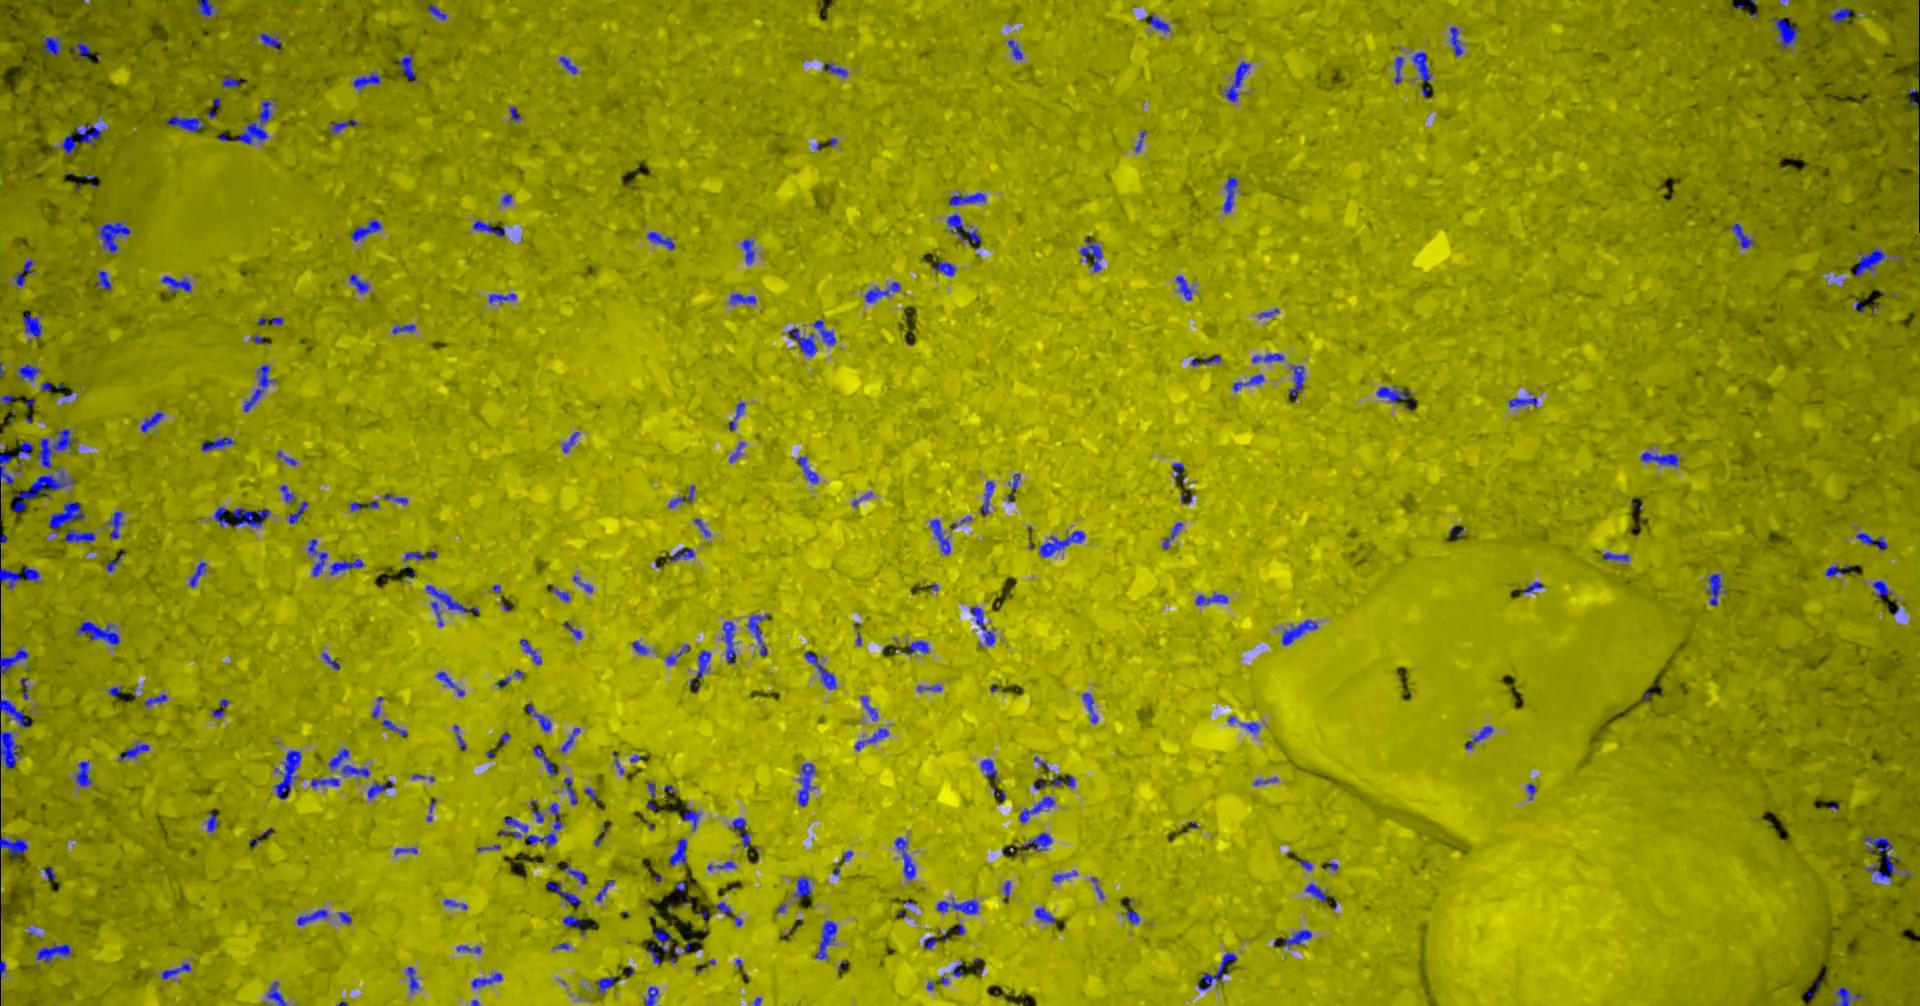ant: (499, 801, 564, 845), (13, 467, 75, 511), (427, 586, 480, 626), (236, 100, 273, 144), (38, 428, 77, 467), (1199, 951, 1238, 989), (245, 365, 277, 412), (1865, 835, 1898, 879), (276, 749, 303, 799), (63, 123, 107, 155), (1041, 530, 1086, 558), (50, 500, 86, 532), (806, 652, 838, 688), (330, 748, 371, 776), (77, 620, 121, 644), (1227, 61, 1252, 102), (949, 213, 982, 244), (99, 221, 132, 251), (1283, 619, 1319, 645), (971, 605, 996, 645), (1020, 796, 1057, 822), (649, 923, 672, 964), (748, 614, 770, 655), (1771, 17, 1799, 48), (691, 649, 712, 690), (789, 326, 818, 356), (1, 699, 32, 727), (897, 837, 917, 879), (1, 567, 41, 588), (817, 920, 838, 959), (1857, 248, 1886, 276), (1, 647, 30, 674), (547, 882, 583, 904), (232, 507, 270, 527), (1, 730, 22, 768), (866, 281, 902, 302), (799, 762, 817, 805), (937, 897, 980, 915), (1081, 238, 1103, 271), (309, 539, 329, 575), (1, 835, 29, 861), (437, 671, 466, 696), (535, 746, 560, 775), (856, 728, 890, 749), (352, 218, 383, 241), (932, 518, 952, 554), (1465, 725, 1495, 749), (1378, 386, 1417, 404), (527, 704, 552, 730), (38, 942, 72, 962), (797, 456, 820, 483), (521, 638, 543, 664), (1642, 451, 1681, 466), (1857, 532, 1890, 550), (723, 621, 737, 663), (168, 116, 206, 131), (1731, 224, 1756, 246), (731, 817, 750, 847), (1022, 832, 1053, 851), (815, 319, 837, 345), (474, 218, 505, 236), (1224, 177, 1239, 213), (1, 447, 17, 484), (1284, 929, 1313, 948), (1834, 986, 1863, 1005), (670, 485, 696, 507), (331, 558, 364, 574), (1415, 51, 1432, 81), (15, 259, 36, 286), (163, 276, 193, 293), (1234, 373, 1265, 391), (119, 743, 150, 761), (163, 962, 193, 979), (1143, 13, 1171, 32), (399, 53, 418, 81), (472, 972, 504, 988), (268, 981, 290, 1005), (1164, 522, 1183, 549), (670, 838, 690, 865), (203, 436, 236, 451), (298, 908, 329, 925), (648, 231, 676, 249), (107, 511, 124, 539), (667, 644, 691, 664), (1709, 573, 1724, 605), (563, 727, 582, 752), (370, 779, 395, 798), (982, 480, 996, 514), (950, 192, 987, 205), (354, 72, 382, 89), (1196, 591, 1229, 605), (290, 500, 309, 525), (564, 865, 588, 884), (1305, 883, 1330, 902), (597, 976, 621, 995), (190, 561, 208, 587), (250, 828, 276, 846), (730, 401, 745, 431), (935, 257, 957, 276), (142, 412, 165, 431), (25, 312, 43, 337), (684, 807, 702, 831), (1291, 365, 1305, 395), (66, 528, 97, 542), (1084, 692, 1098, 723), (862, 695, 879, 720), (383, 719, 409, 735), (597, 879, 616, 901), (564, 915, 585, 934), (262, 32, 284, 50), (331, 118, 358, 133), (77, 760, 93, 786), (1177, 276, 1194, 300), (1451, 25, 1464, 56), (350, 273, 370, 293), (1830, 8, 1853, 24), (742, 238, 756, 264), (565, 777, 579, 804), (44, 36, 63, 55), (196, 0, 216, 18), (795, 876, 813, 897), (19, 363, 41, 380), (564, 431, 580, 452), (1010, 473, 1022, 500), (670, 547, 696, 561), (74, 39, 91, 58), (560, 56, 579, 74), (695, 518, 712, 537), (107, 553, 124, 572), (323, 652, 342, 669), (1051, 774, 1076, 788), (405, 550, 438, 560), (574, 575, 594, 592), (982, 758, 998, 779), (1036, 907, 1057, 923), (1192, 354, 1222, 366), (648, 781, 659, 810), (824, 64, 850, 76), (531, 799, 545, 822), (429, 3, 448, 19), (97, 271, 113, 290), (565, 622, 584, 639), (213, 699, 230, 718), (1874, 580, 1895, 596), (551, 586, 571, 601), (455, 725, 467, 749), (408, 967, 420, 991), (1053, 870, 1079, 882), (731, 441, 745, 462), (908, 640, 930, 654), (312, 777, 342, 788), (281, 484, 297, 502), (215, 506, 230, 525), (490, 293, 518, 304), (278, 451, 298, 465), (1603, 551, 1630, 561), (709, 860, 737, 870), (1253, 353, 1285, 362), (444, 898, 469, 909), (146, 694, 168, 706), (19, 439, 34, 457), (1010, 39, 1023, 58), (646, 986, 660, 1005), (1510, 398, 1539, 406), (731, 293, 757, 304), (1524, 580, 1544, 593), (632, 640, 650, 654), (373, 696, 385, 718), (1396, 56, 1404, 83), (259, 316, 284, 325), (223, 75, 243, 86), (1242, 721, 1261, 733), (392, 324, 417, 333), (385, 494, 409, 503), (717, 901, 733, 915), (208, 810, 218, 831), (1827, 564, 1845, 575), (1128, 909, 1142, 923), (918, 683, 943, 691), (42, 381, 63, 390), (22, 677, 30, 699), (458, 945, 483, 953), (510, 105, 522, 121), (340, 911, 353, 923), (1173, 462, 1185, 476), (924, 936, 938, 948), (396, 847, 419, 854), (1, 394, 15, 404)
